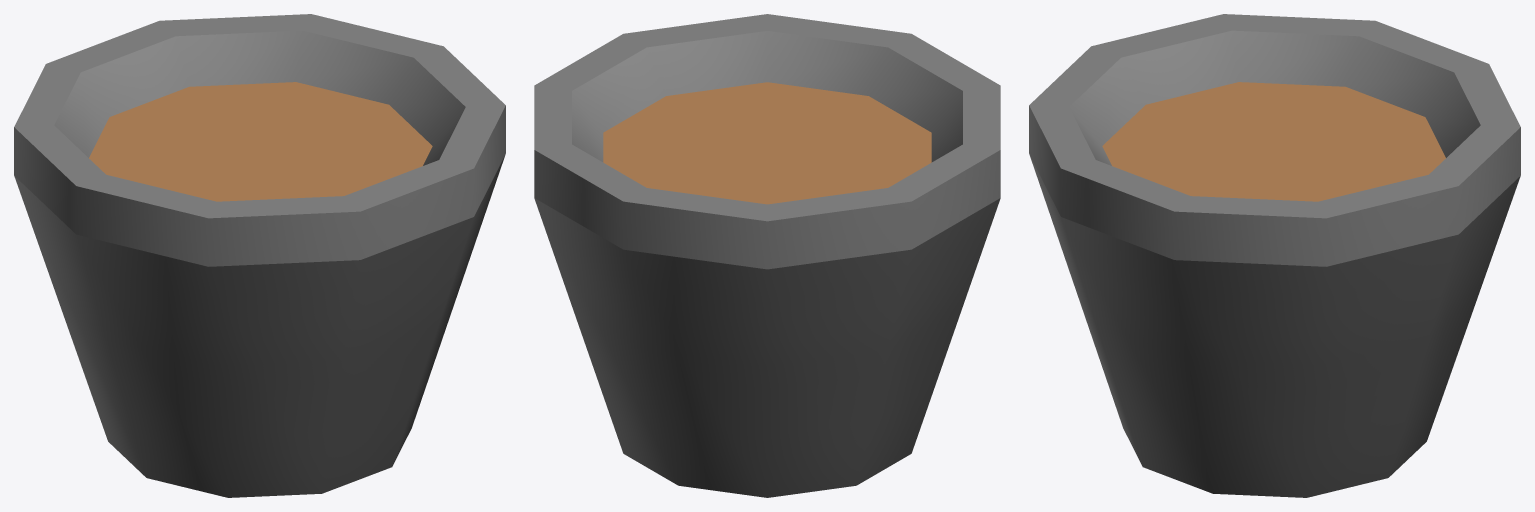
Rendered from PlantPot_5_A.fbx.
The picture shows the model from 3 angles, left to right: view 1: azimuth 30°, elevation 25°; view 2: azimuth 150°, elevation 25°; view 3: azimuth 270°, elevation 25°; orthographic projection.
Visible parts, largest first — view 1: PlantPot_5_A; view 2: PlantPot_5_A; view 3: PlantPot_5_A.
Boxes of the visible parts, left/top/right/bottom form: PlantPot_5_A: left=14, top=14, right=505, bottom=497; PlantPot_5_A: left=534, top=14, right=1000, bottom=497; PlantPot_5_A: left=1029, top=14, right=1520, bottom=497.
Bounding box in the file's own units: 18.93 × 13.76 × 19.24.
